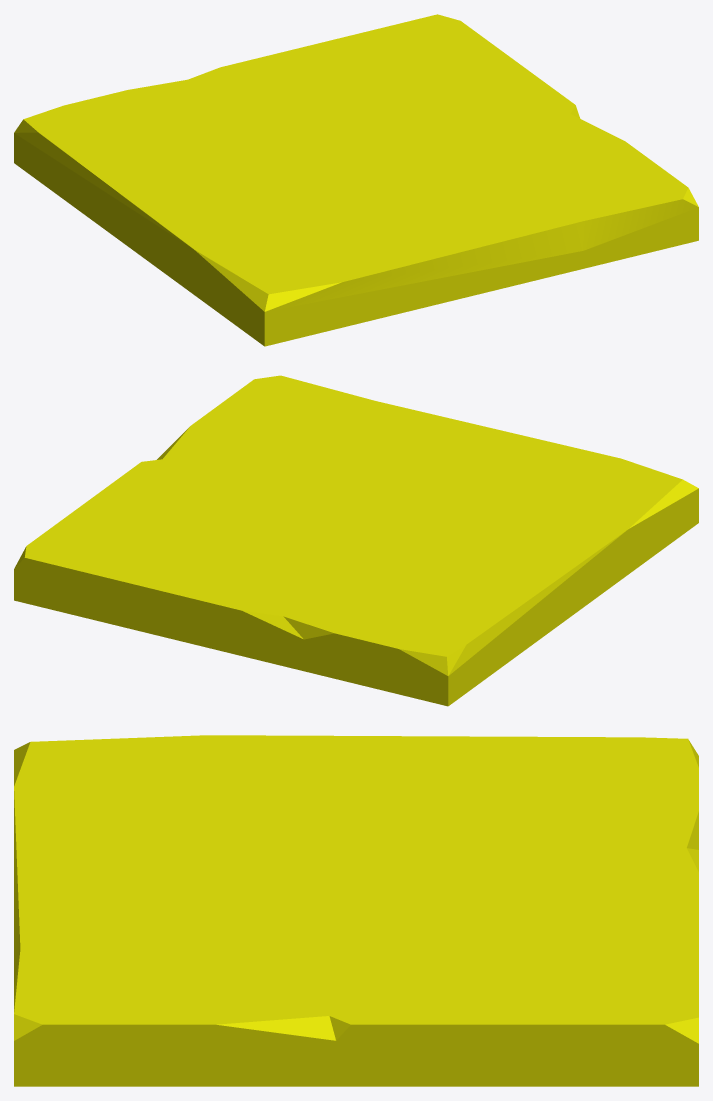
The model's file is SM_PolygonPrototype_Buildings_Floor_1x1_01P.glb.
3 renders of one model, top to bottom at view 1: azimuth 30°, elevation 25°; view 2: azimuth 150°, elevation 25°; view 3: azimuth 270°, elevation 25°, orthographic. The views are drawn at different scales.
Parts seen in each view (by area): view 1: SM_PolygonPrototype_Buildings_Floor_1x1_01P; view 2: SM_PolygonPrototype_Buildings_Floor_1x1_01P; view 3: SM_PolygonPrototype_Buildings_Floor_1x1_01P.
Boxes of the visible parts, box(x1,y1,x2,y2) form: SM_PolygonPrototype_Buildings_Floor_1x1_01P: box(14, 14, 698, 346); SM_PolygonPrototype_Buildings_Floor_1x1_01P: box(14, 375, 698, 706); SM_PolygonPrototype_Buildings_Floor_1x1_01P: box(14, 735, 698, 1086).
Bounding box in the file's own units: 1 × 0.1 × 1.
1 material, 1 textured.
